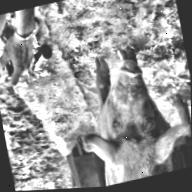boar: (58, 32, 192, 189)
